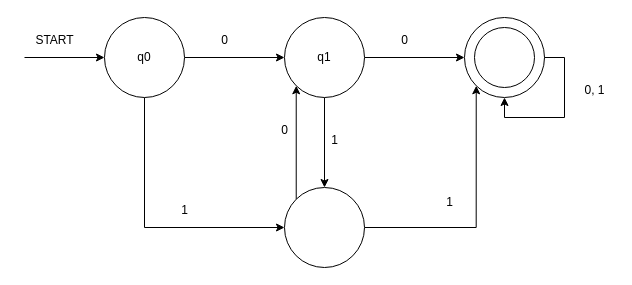
Some shapes in this 632 by 285 pixel diagram are drawn without their labels. The shapes that lost their labels are listed below. From the top down, each one's centre as x and y in pixels, then its label:
point 504,57: q3
point 324,227: q2
